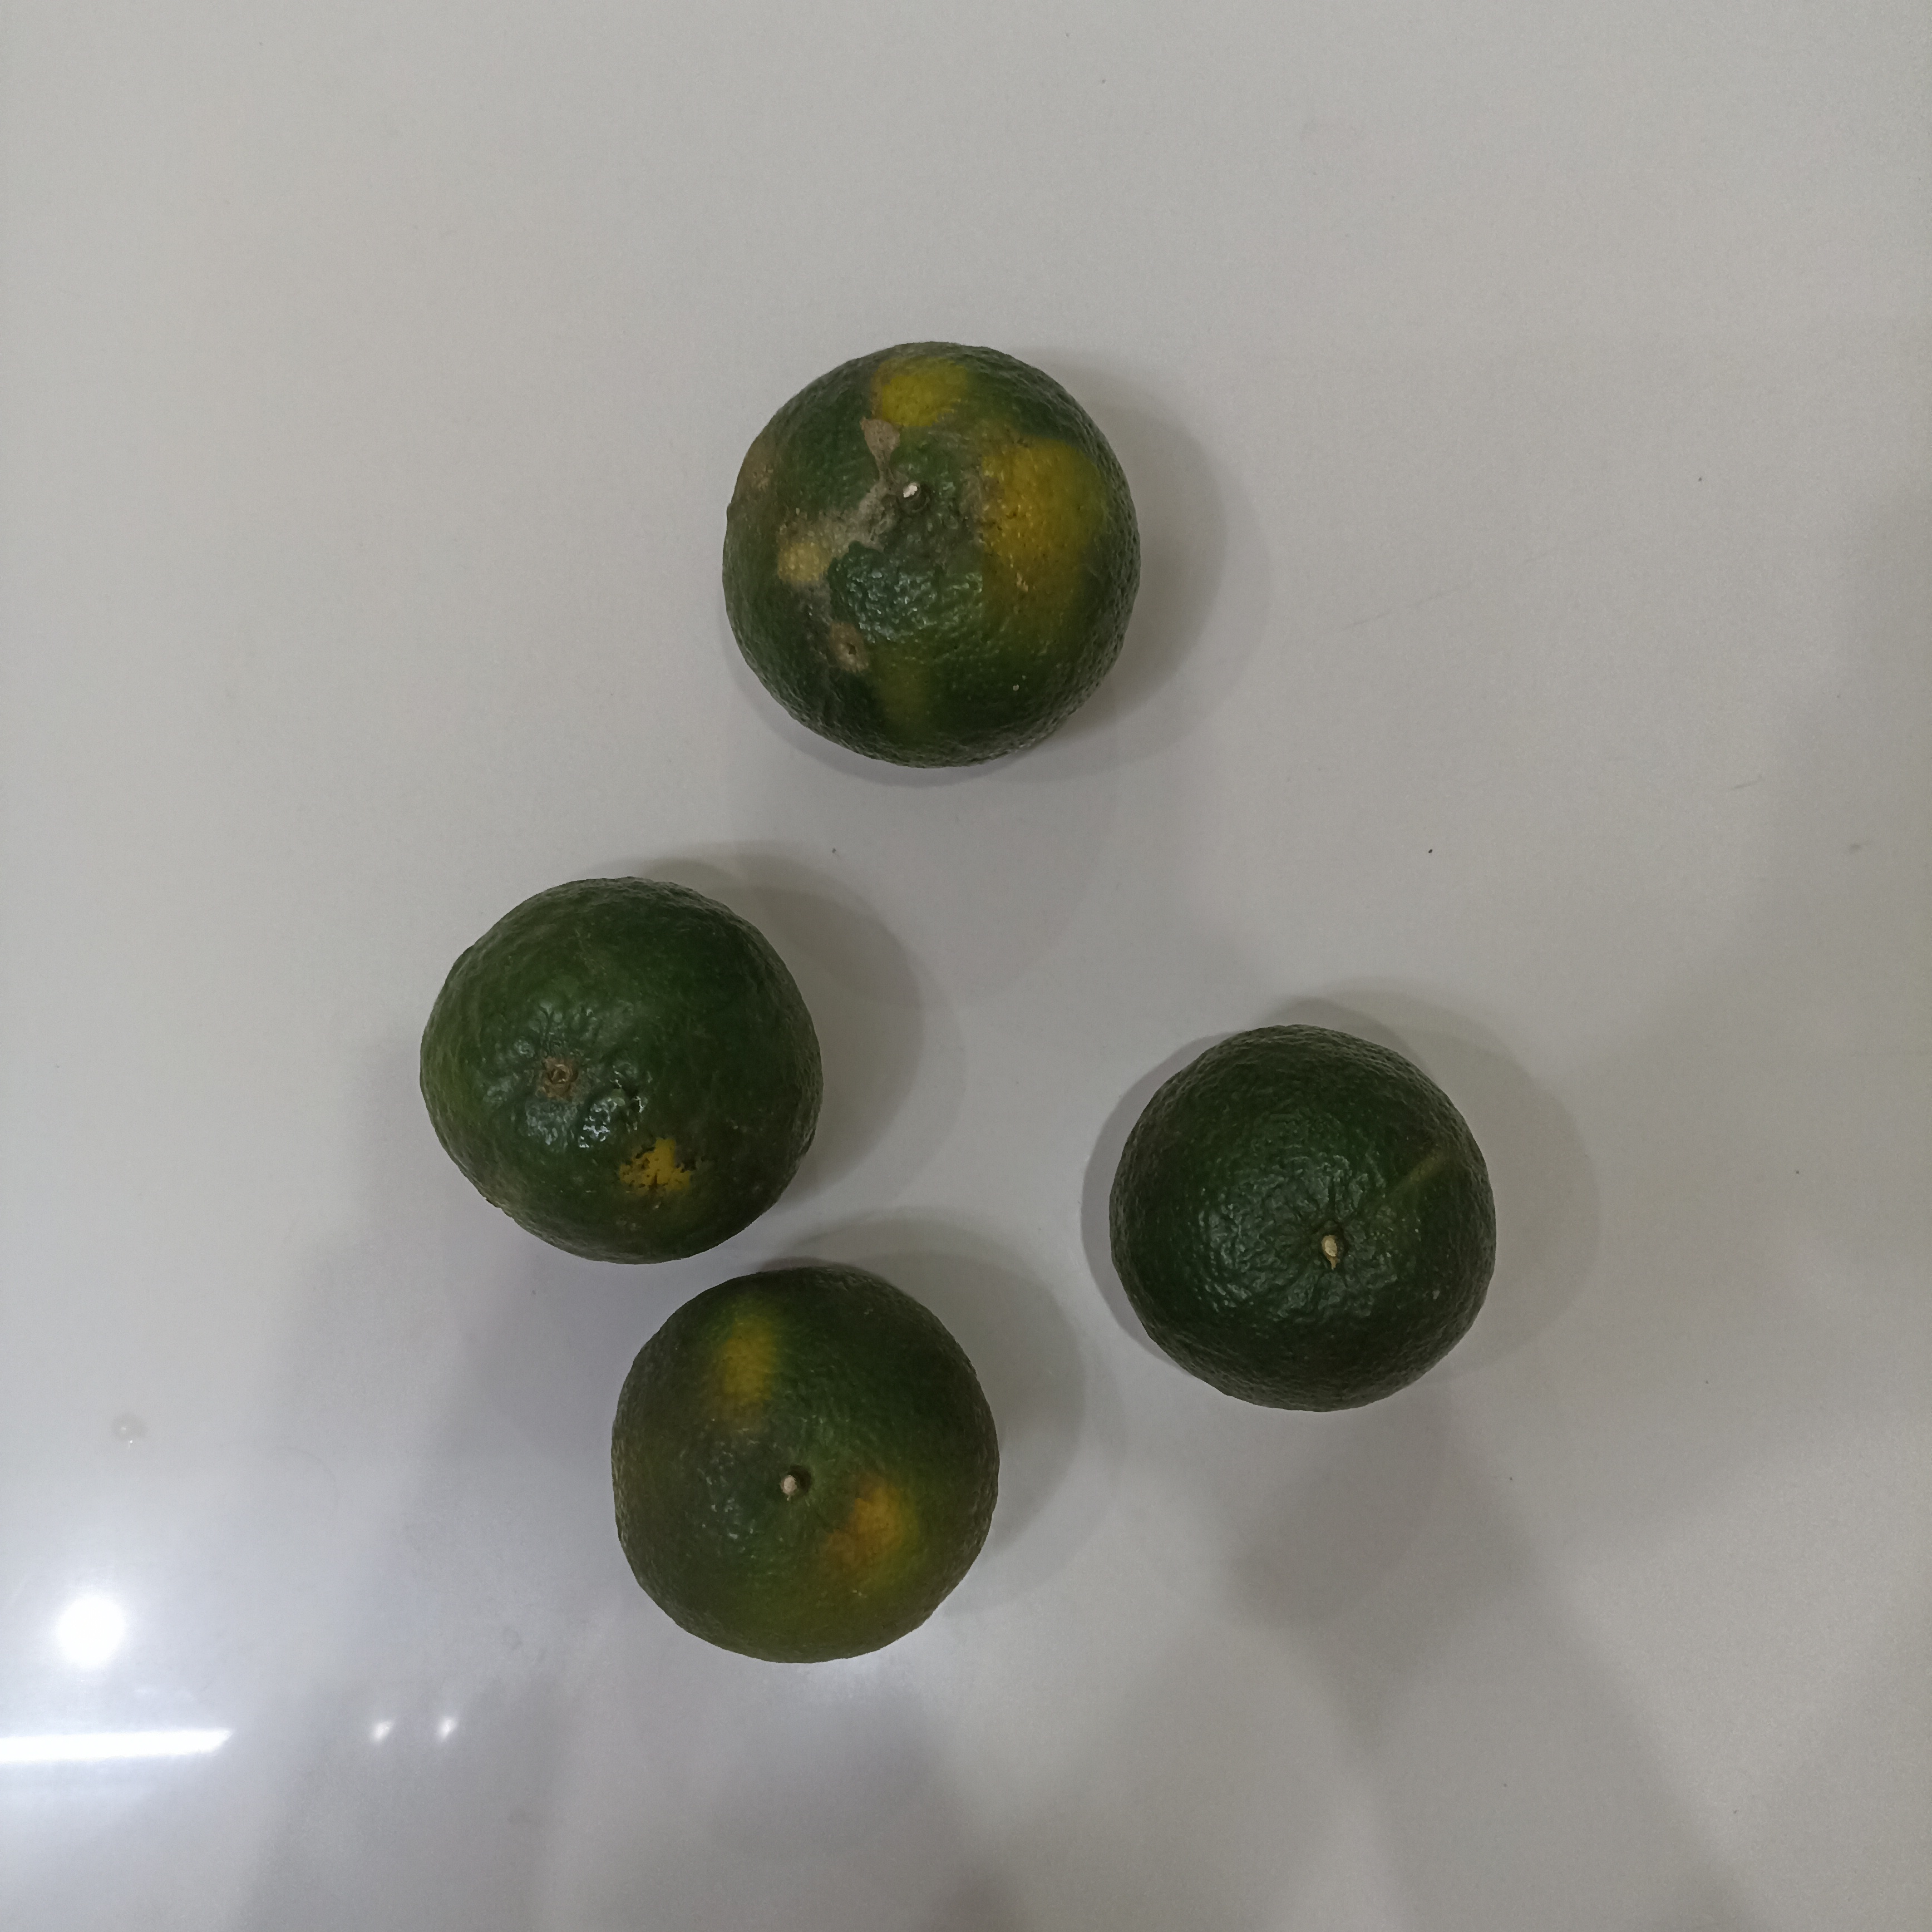Cam: (720, 341, 1143, 775), (419, 870, 823, 1265), (609, 1253, 998, 1661), (1106, 1024, 1497, 1408)
